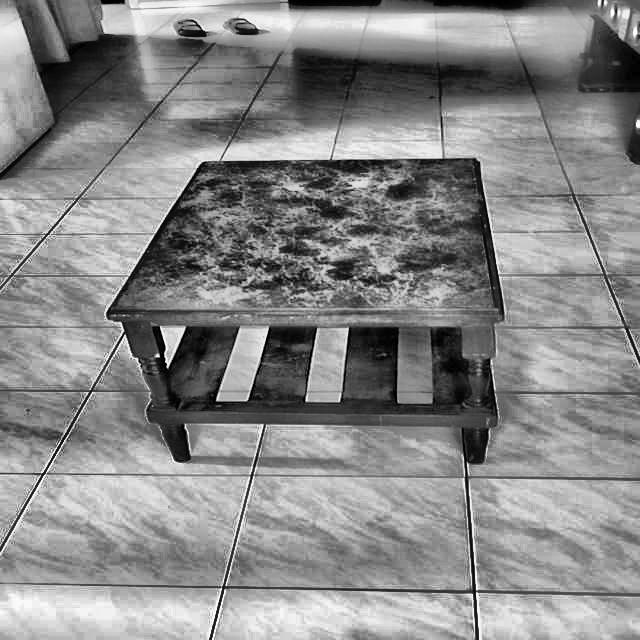mesa: (103, 154, 506, 468)
